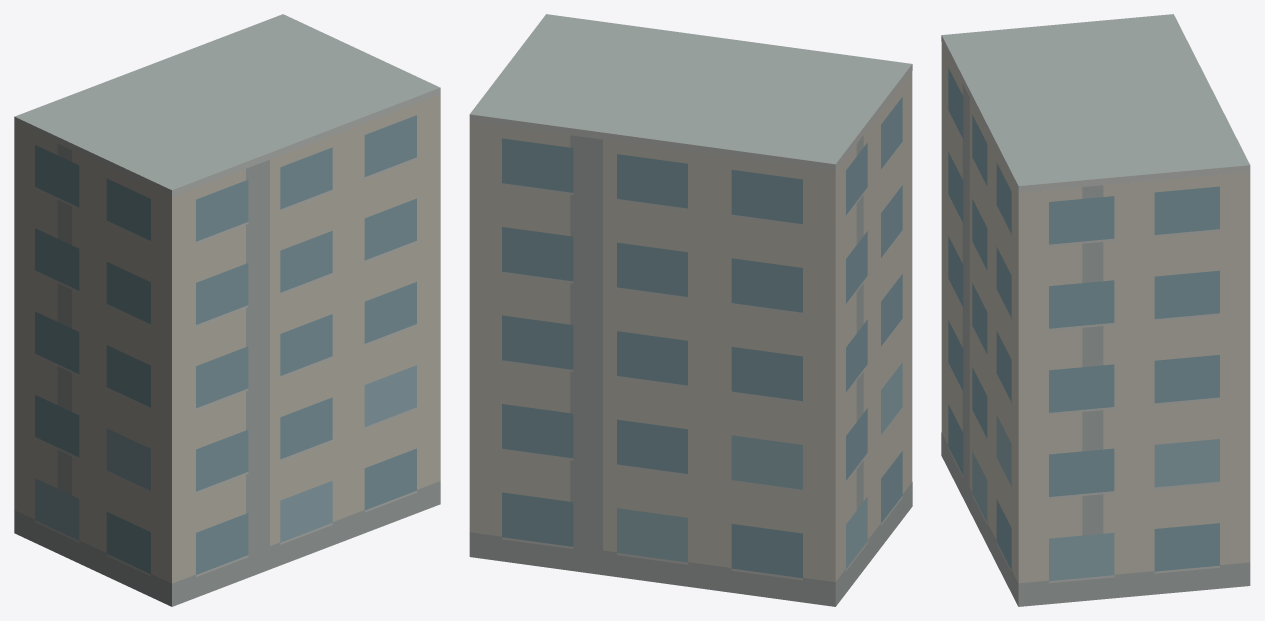
File: residential-d345470e-4d14-49f8-b5b3-be7993a0dbb7.glb
3 views of the same model, side by side, from view 1: azimuth 30°, elevation 25°; view 2: azimuth 150°, elevation 25°; view 3: azimuth 270°, elevation 25° (orthographic). The views are drawn at different scales.
Parts seen in each view (by area): view 1: residential-d345470e-4d14-49f8-b5b3-be7993a0dbb7.tmp; view 2: residential-d345470e-4d14-49f8-b5b3-be7993a0dbb7.tmp; view 3: residential-d345470e-4d14-49f8-b5b3-be7993a0dbb7.tmp.
Part boxes in pixels (left/top/right/bottom): residential-d345470e-4d14-49f8-b5b3-be7993a0dbb7.tmp: left=14, top=14, right=440, bottom=606; residential-d345470e-4d14-49f8-b5b3-be7993a0dbb7.tmp: left=469, top=14, right=912, bottom=606; residential-d345470e-4d14-49f8-b5b3-be7993a0dbb7.tmp: left=941, top=14, right=1250, bottom=606.
Bounding box in the file's own units: 13.39 × 15.25 × 10.15.
